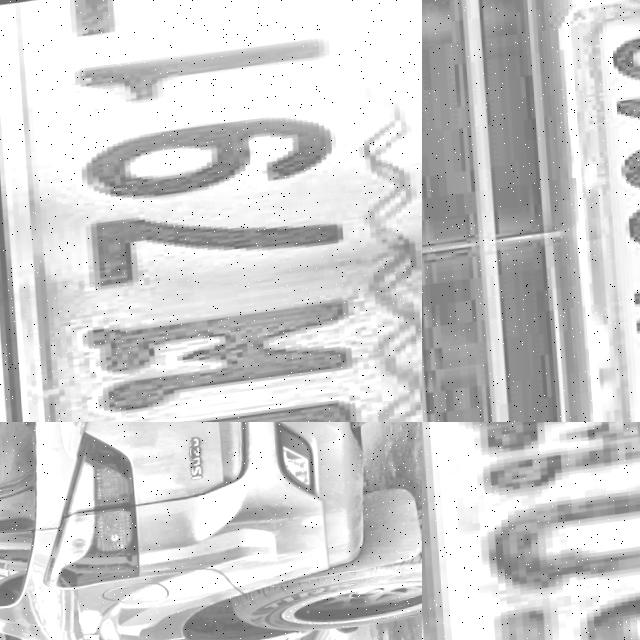license-plate: (0, 0, 422, 422), (422, 422, 640, 640), (548, 0, 640, 422)
